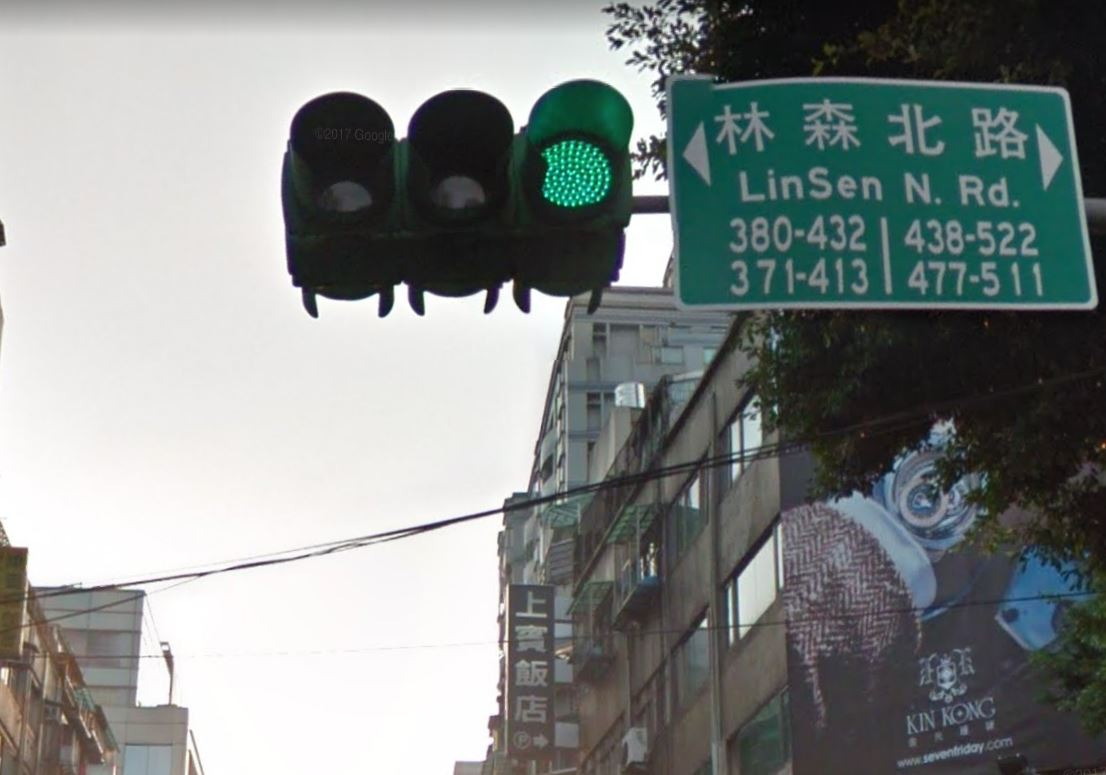Traffic_light_green: (276, 59, 638, 328)
